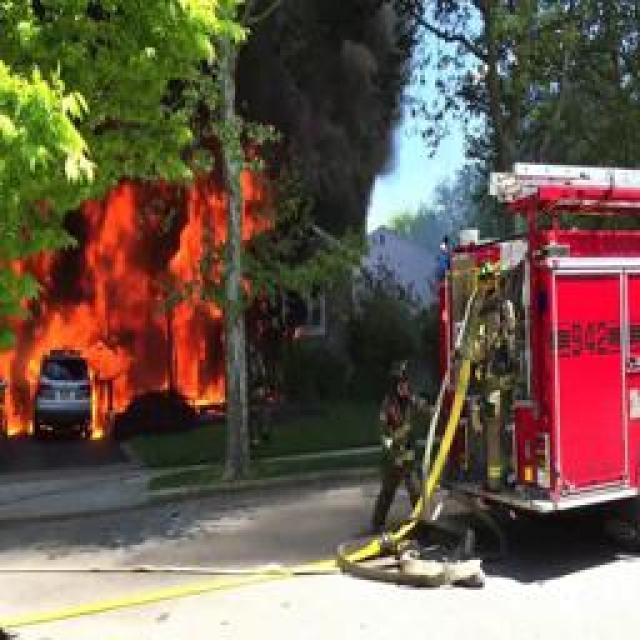Fire: (98, 169, 273, 403), (22, 183, 142, 437), (0, 253, 33, 439)
Smoke: (280, 19, 413, 167)
